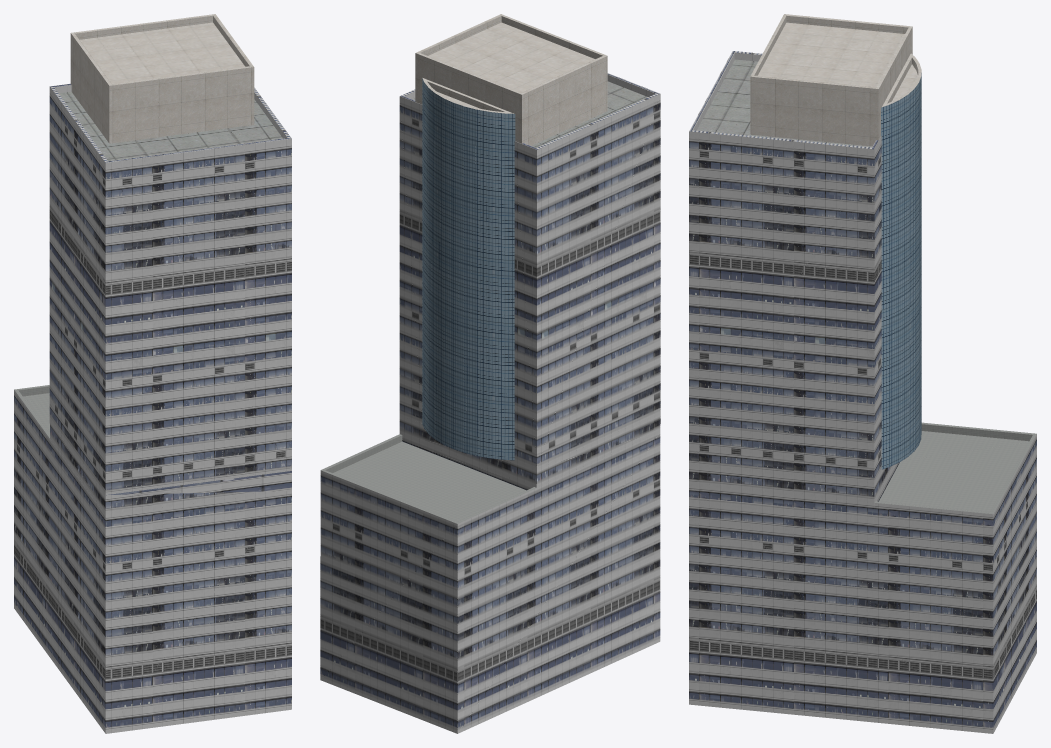
3 views of the same model, side by side, from view 1: azimuth 30°, elevation 25°; view 2: azimuth 150°, elevation 25°; view 3: azimuth 270°, elevation 25° (orthographic). The views are drawn at different scales.
Visible parts, largest first — view 1: JZ_JX_07; view 2: JZ_JX_07; view 3: JZ_JX_07.
Boxes of the visible parts, x1,y1,x2,y2 form: JZ_JX_07: (14, 14, 291, 733); JZ_JX_07: (320, 14, 660, 733); JZ_JX_07: (689, 14, 1036, 733).
Bounding box in the file's own units: 2795 × 7400 × 3735.
Materials: 4 (4 with a texture image).
